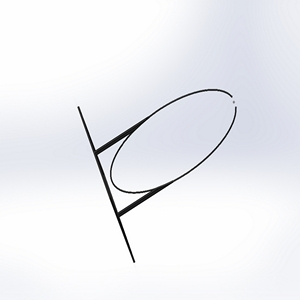circle: (75, 87, 240, 263)
